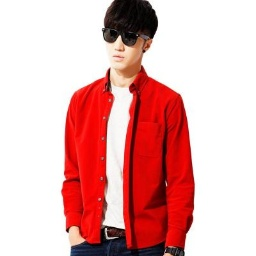face: (103, 1, 160, 70)
